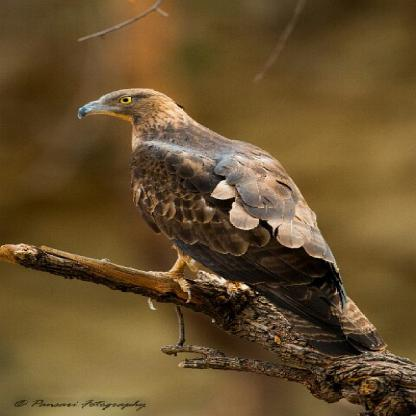Burung: (69, 87, 384, 352)
